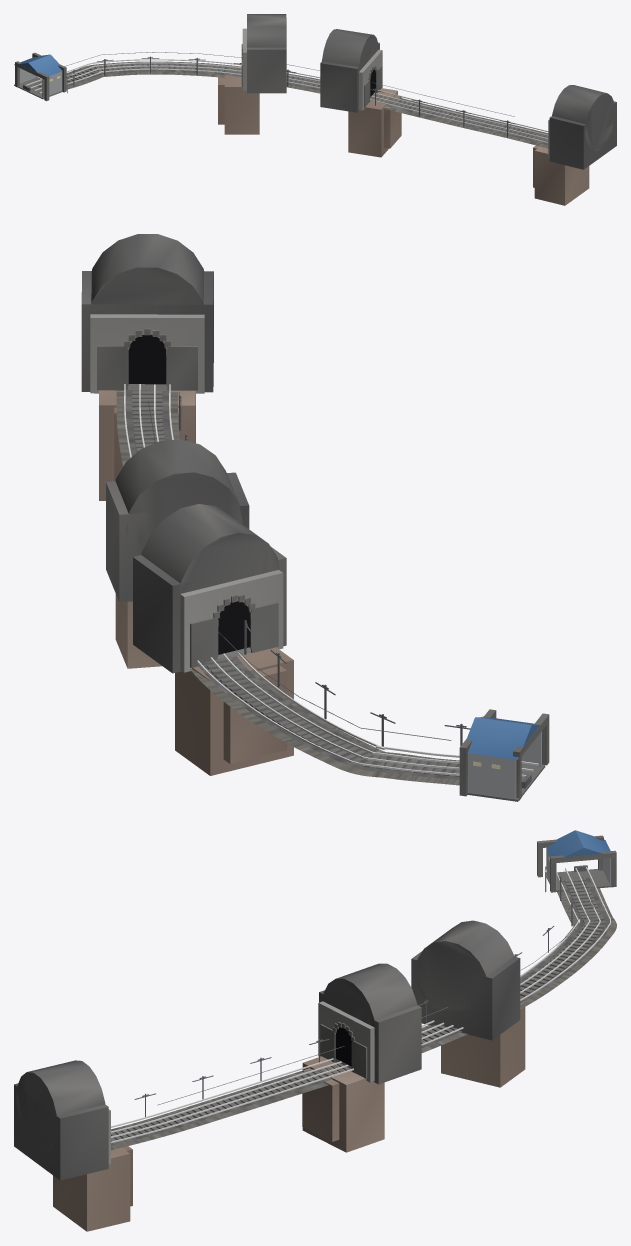
Rendered from Rail_P3.fbx.
3 renders of one model, top to bottom at view 1: azimuth 30°, elevation 25°; view 2: azimuth 150°, elevation 25°; view 3: azimuth 270°, elevation 25°, orthographic. The views are drawn at different scales.
Visible parts, largest first — view 1: Rail.PortalIn0, Rail.Portal, Rail.PortalOut0, Rail.Sleepers, Rail.Ballast, Rail.Bed, Rail.Shed, Rail.Rail.002, Rail.Rail.001, Rail.Rail.003, Rail.Rail, Rail.Masts (+1 smaller); view 2: Rail.PortalOut0, Rail.Portal, Rail.PortalIn0, Rail.Shed, Rail.Sleepers, Rail.Ballast, Rail.Bed, Rail.Rail, Rail.Rail.001, Rail.Rail.002, Rail.Rail.003, Rail.Masts; view 3: Rail.PortalIn0, Rail.PortalOut0, Rail.Portal, Rail.Sleepers, Rail.Shed, Rail.Ballast, Rail.Bed, Rail.Rail, Rail.Rail.001, Rail.Rail.002, Rail.Rail.003, Rail.Masts.
Boxes of the visible parts, x1=… form: Rail.PortalIn0: x1=320, y1=29, x2=401, y2=157; Rail.Portal: x1=533, y1=85, x2=616, y2=205; Rail.PortalOut0: x1=218, y1=14, x2=286, y2=134; Rail.Sleepers: x1=38, y1=63, x2=548, y2=142; Rail.Ballast: x1=66, y1=61, x2=548, y2=148; Rail.Bed: x1=34, y1=63, x2=548, y2=145; Rail.Shed: x1=14, y1=52, x2=66, y2=101; Rail.Rail.002: x1=34, y1=65, x2=548, y2=139; Rail.Rail.001: x1=31, y1=62, x2=548, y2=135; Rail.Rail.003: x1=39, y1=68, x2=548, y2=143; Rail.Rail: x1=26, y1=59, x2=548, y2=131; Rail.Masts: x1=67, y1=56, x2=515, y2=137; Rail.PortalOut0: x1=133, y1=504, x2=293, y2=775; Rail.Portal: x1=81, y1=234, x2=213, y2=500; Rail.PortalIn0: x1=106, y1=439, x2=249, y2=668; Rail.Shed: x1=459, y1=709, x2=549, y2=801; Rail.Sleepers: x1=132, y1=390, x2=459, y2=776; Rail.Ballast: x1=116, y1=391, x2=459, y2=785; Rail.Bed: x1=125, y1=390, x2=459, y2=779; Rail.Rail: x1=124, y1=384, x2=459, y2=775; Rail.Rail.001: x1=139, y1=384, x2=526, y2=777; Rail.Rail.002: x1=154, y1=384, x2=533, y2=771; Rail.Rail.003: x1=169, y1=384, x2=538, y2=765; Rail.Masts: x1=179, y1=392, x2=470, y2=746; Rail.PortalIn0: x1=302, y1=963, x2=421, y2=1152; Rail.PortalOut0: x1=411, y1=920, x2=525, y2=1087; Rail.Portal: x1=14, y1=1060, x2=132, y2=1231; Rail.Sleepers: x1=111, y1=878, x2=605, y2=1141; Rail.Shed: x1=537, y1=830, x2=616, y2=892; Rail.Ballast: x1=111, y1=888, x2=616, y2=1150; Rail.Bed: x1=111, y1=878, x2=610, y2=1145; Rail.Rail: x1=111, y1=867, x2=610, y2=1143; Rail.Rail.001: x1=111, y1=868, x2=600, y2=1137; Rail.Rail.002: x1=111, y1=868, x2=590, y2=1132; Rail.Rail.003: x1=111, y1=872, x2=580, y2=1127; Rail.Masts: x1=134, y1=873, x2=575, y2=1116.
Bounding box in the file's own units: 21583 × 5996 × 19390.
